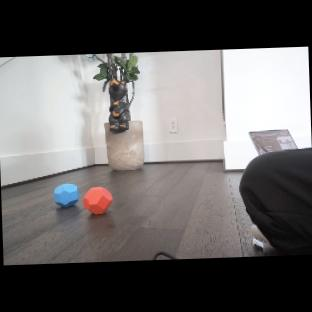V5_BLUE: (54, 183, 79, 208)
V5_RED: (82, 187, 114, 216)
